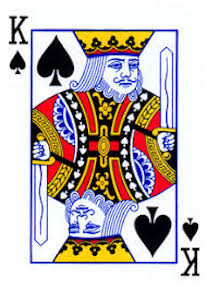KingOfSpades: (2, 6, 206, 282)
